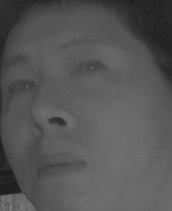eye: (67, 56, 106, 80), (4, 77, 37, 98)
mouth: (32, 148, 89, 184)
